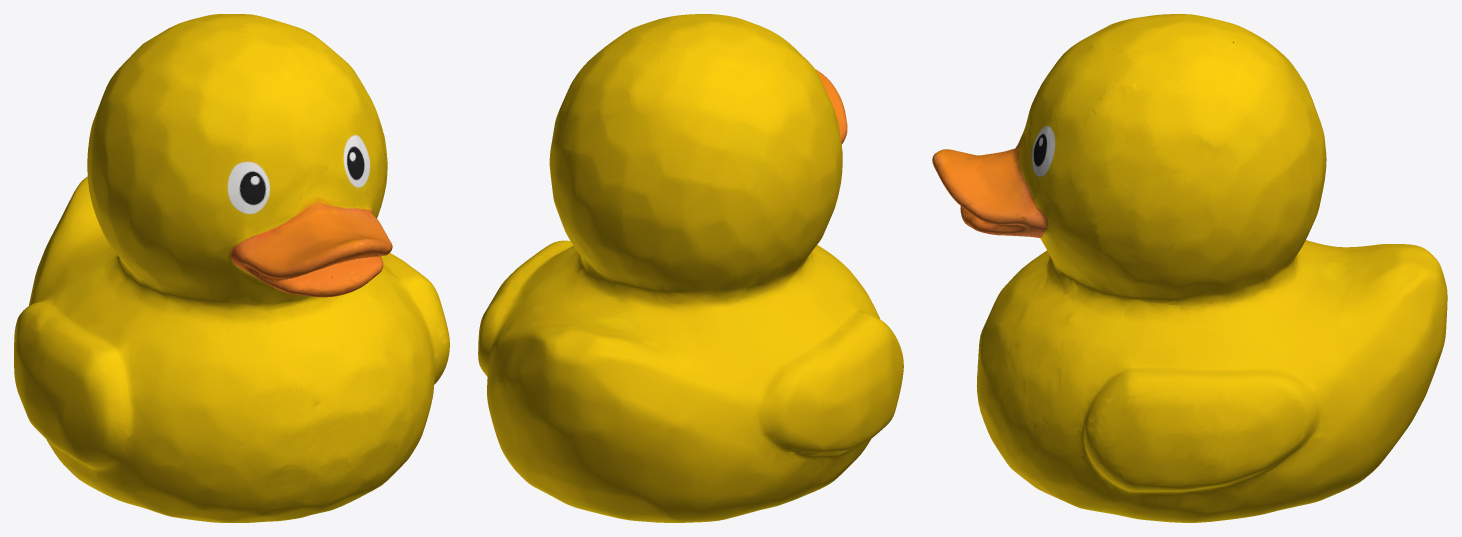
File: duck.glb
The picture shows the model from 3 angles, left to right: view 1: azimuth 30°, elevation 25°; view 2: azimuth 150°, elevation 25°; view 3: azimuth 270°, elevation 25°; orthographic projection. The views are drawn at different scales.
Parts seen in each view (by area): view 1: Mesh_0; view 2: Mesh_0; view 3: Mesh_0.
Boxes of the visible parts, box(x1,y1,x2,y2) form: Mesh_0: box(14, 14, 449, 522); Mesh_0: box(478, 14, 903, 522); Mesh_0: box(932, 14, 1447, 522).
Bounding box in the file's own units: 1.62 × 1.77 × 1.91.
1 material, 1 textured.
